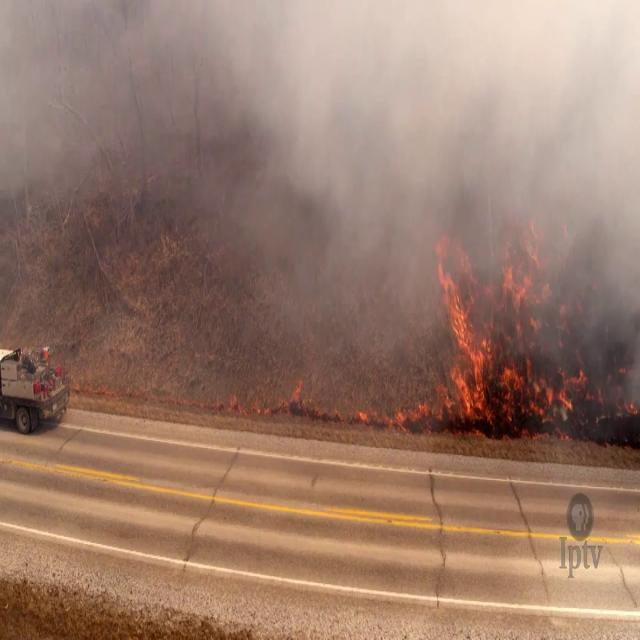Fire: (227, 220, 640, 439)
Smoke: (0, 1, 640, 410)
